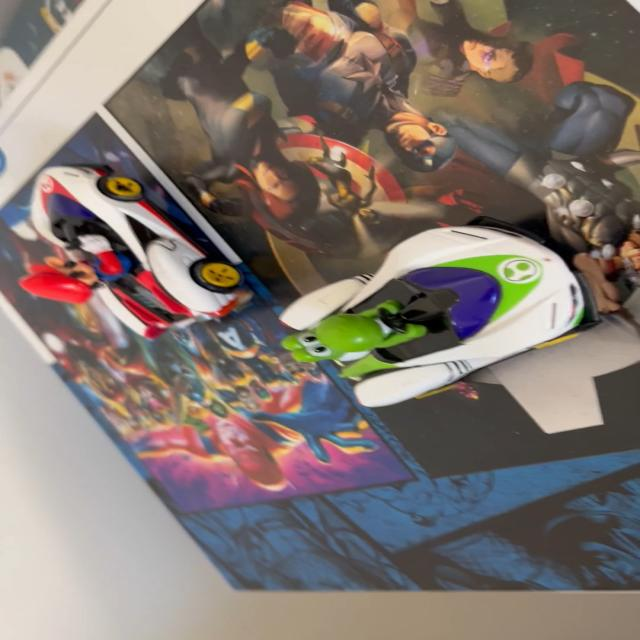mario: (10, 159, 261, 351)
yoshi: (264, 235, 612, 426)
